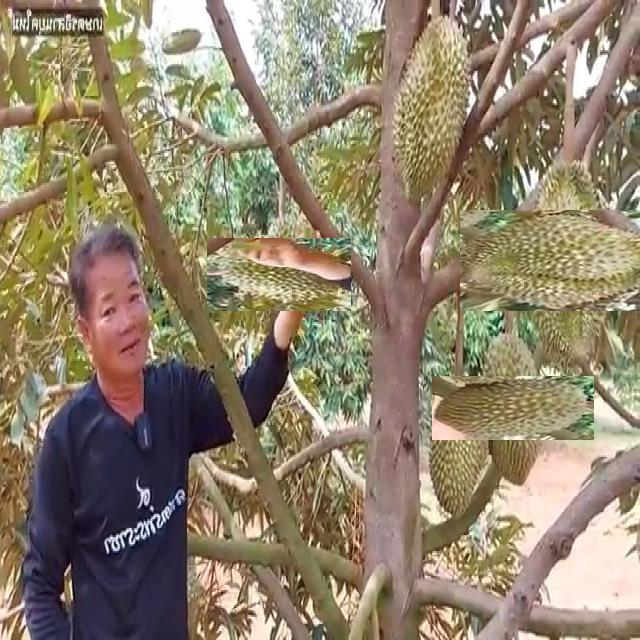durian: (489, 181, 640, 340), (386, 13, 480, 210), (456, 351, 569, 464), (225, 220, 334, 329), (424, 376, 492, 525)
